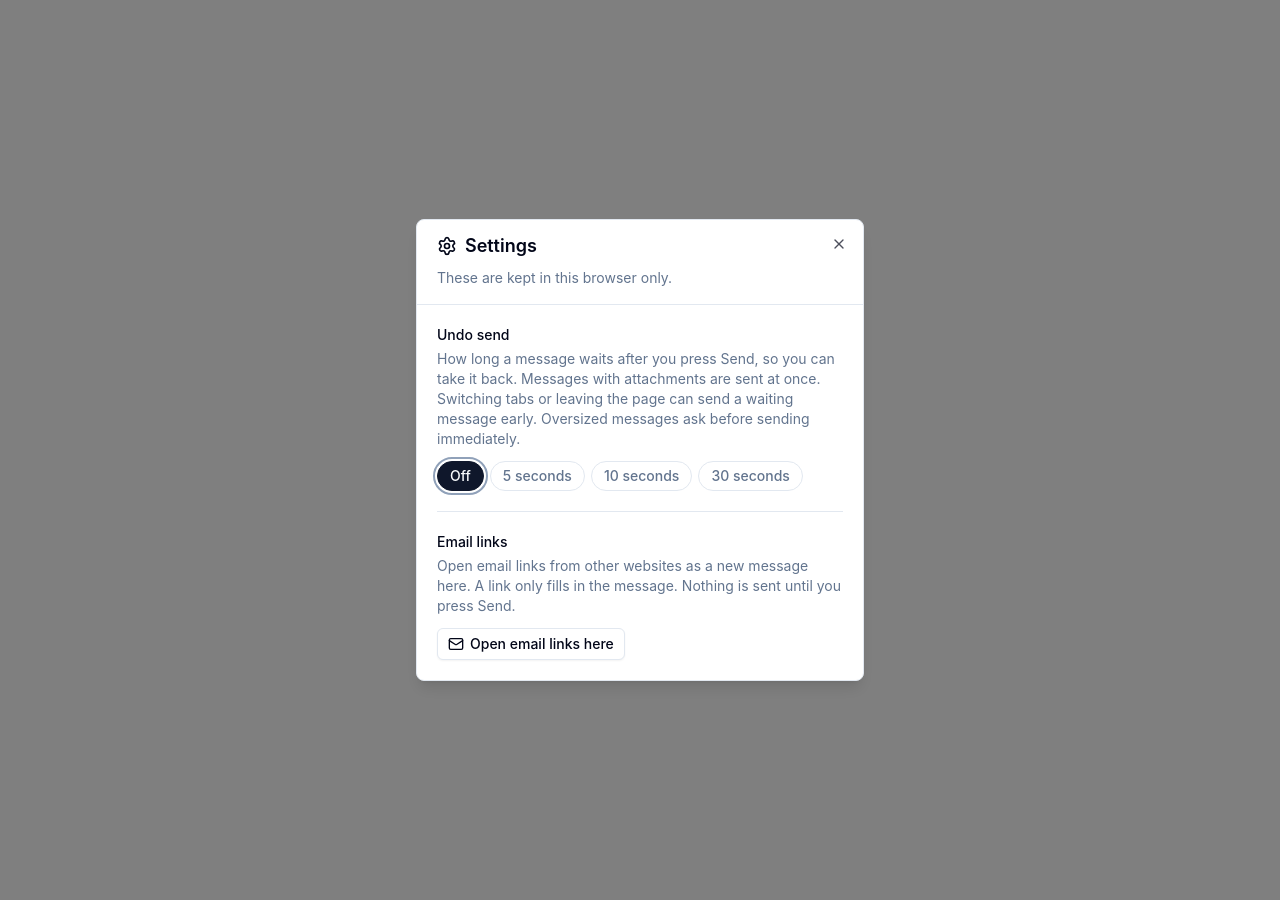
Test case: registering as the handler › is only ever asked for from the Settings button, with the URL the manifest names
Click the button "Open email links here". click: (531,644)
box: top-left (437, 628), bottom-right (625, 660)
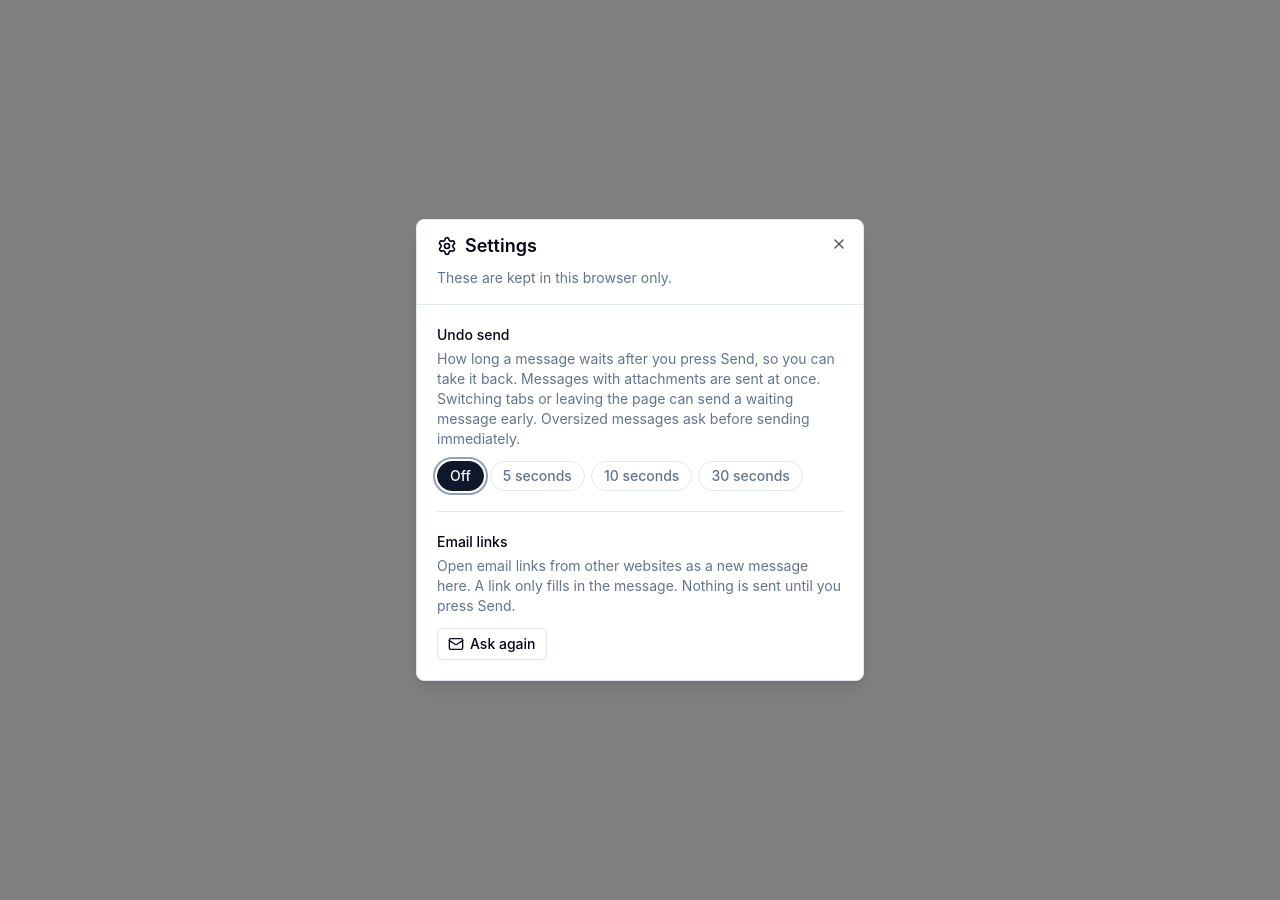
Check: the button "Ask again" is shown, box top-left (437, 628), bottom-right (546, 660)
